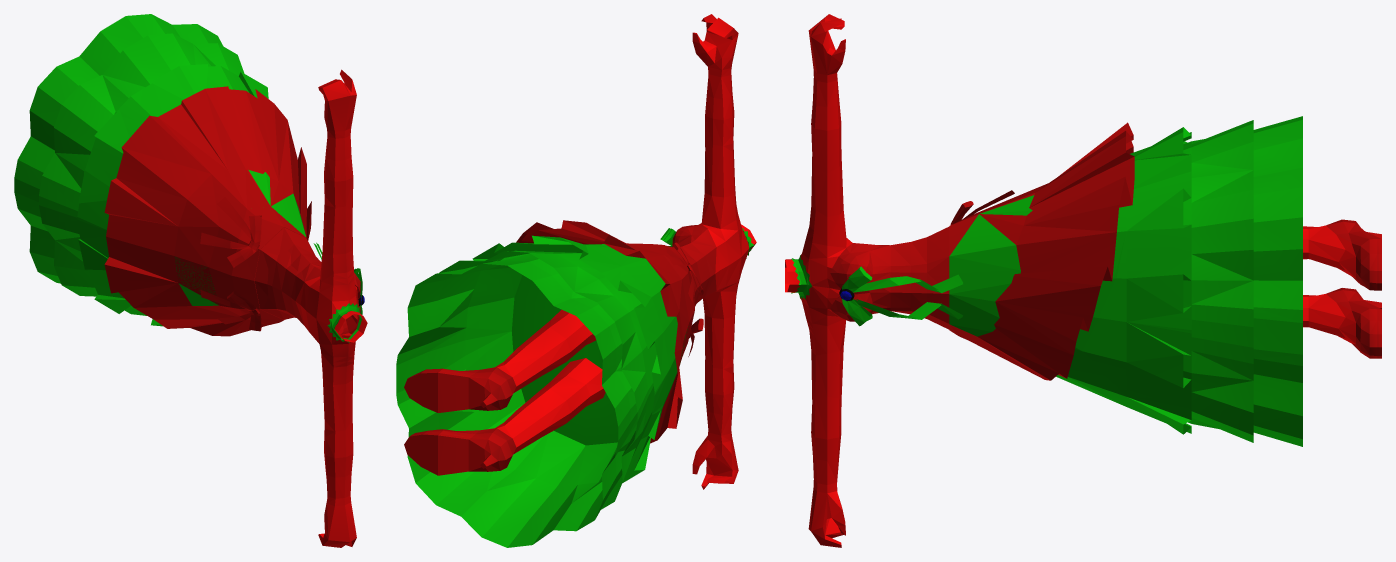
Rendered from body127.obj.
3 views of the same model, side by side, from view 1: azimuth 30°, elevation 25°; view 2: azimuth 150°, elevation 25°; view 3: azimuth 270°, elevation 25° (orthographic). The views are drawn at different scales.
Visible parts, largest first — view 1: h_body127_4, h_body127_0, h_body127_1, h_body127_5, l_body127_4, l_body127_5; view 2: h_body127_4, h_body127_0, h_body127_1; view 3: h_body127_4, h_body127_0, h_body127_1, l_body127_5, l_body127_4, h_body127_5.
Part boxes in pixels (x1,y1,x2,y2): h_body127_4: (14, 14, 311, 336); h_body127_0: (263, 69, 367, 547); h_body127_1: (254, 227, 364, 385); h_body127_5: (231, 206, 306, 322); l_body127_4: (78, 170, 270, 305); l_body127_5: (271, 193, 306, 236); h_body127_4: (396, 220, 703, 547); h_body127_0: (664, 14, 756, 489); h_body127_1: (660, 225, 715, 296); h_body127_4: (950, 116, 1381, 446); h_body127_0: (785, 14, 962, 547); h_body127_1: (802, 206, 962, 352); l_body127_5: (949, 214, 1020, 336); l_body127_4: (980, 195, 1126, 277); h_body127_5: (949, 213, 978, 340).
Size of the model in its own units: 1.17 by 2.37 by 2.42.
